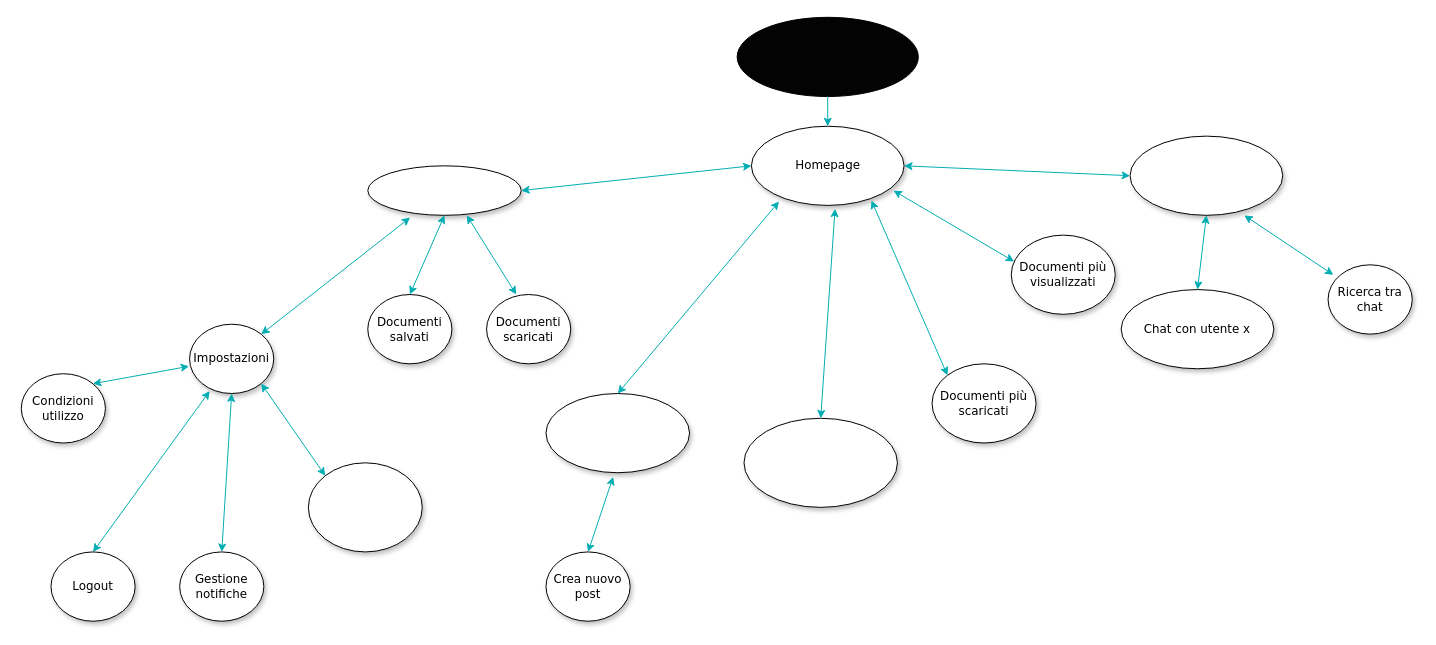
This 1436x645 diagram has some shape labels left out. Here are the shapes that lost their labels. From the top down, the centre of each, then its label:
pixel 827 56: Utente Registrato
pixel 445 191: Area Login
pixel 1207 176: Chat
pixel 618 434: Post
pixel 821 463: Ricerca documento
pixel 365 508: Aggiorna facoltà ed Università
